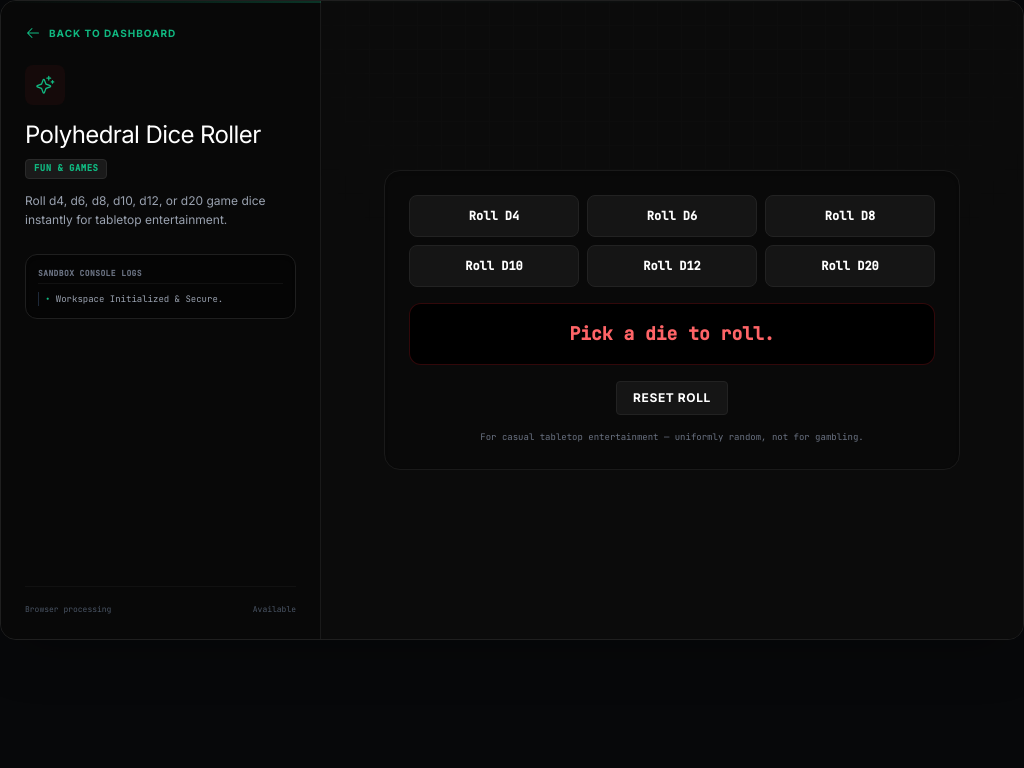
Test case: P1-B3 dice roller workspace (GenericUtilityWorkspace) › dice-roller reset clears the roll and stays honest about entertainment use
Click the button "Roll D4": (494, 216) [409, 195, 579, 237]
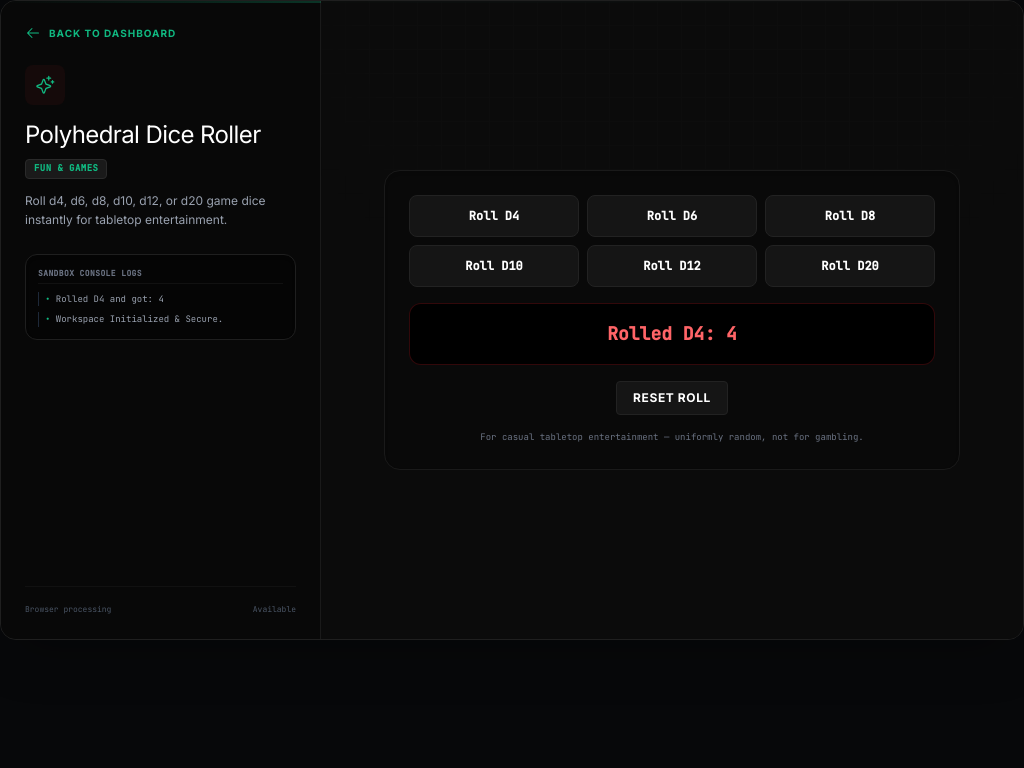
Now the text "Rolled D4: 4" is shown, box [607, 322, 737, 345]
Click the button "Reset Roll": (672, 398) [616, 381, 728, 415]
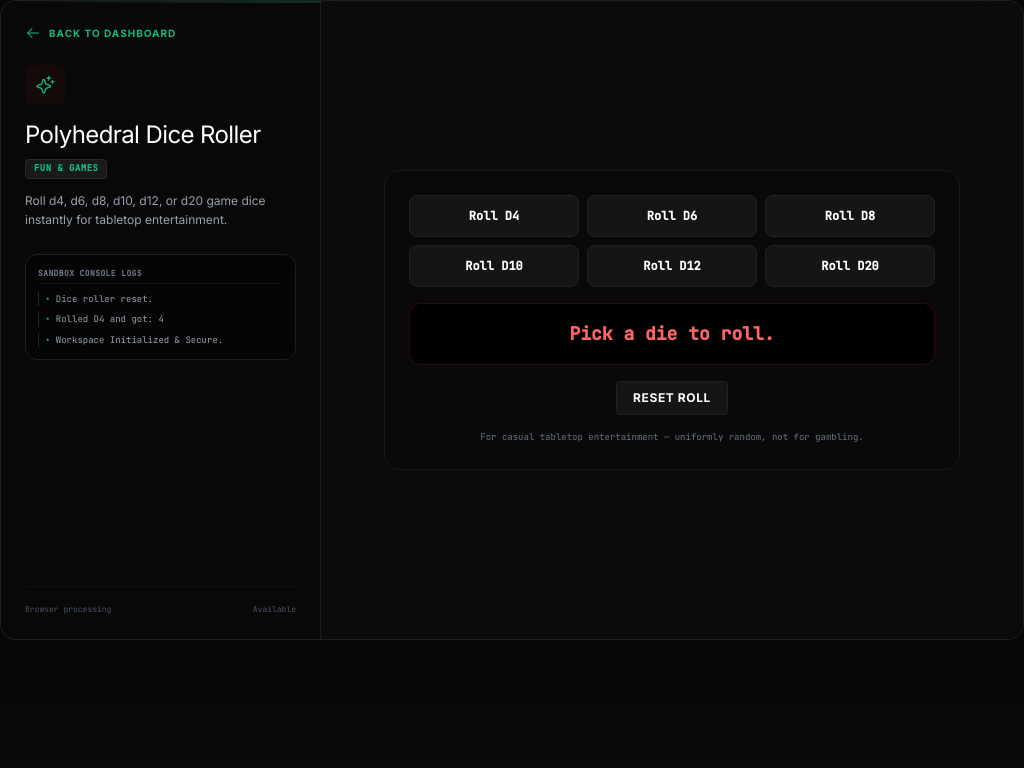
Expected: the text "not for gambling" is shown, [480, 431, 864, 443]
Now the text "Rolled D4:" is gone
